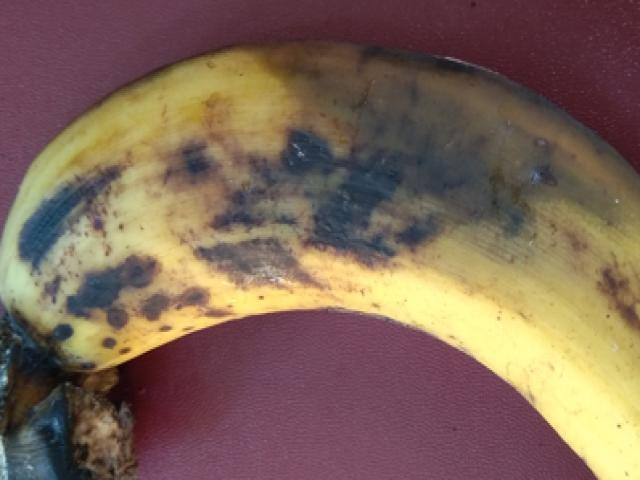rotten: (4, 20, 639, 479)
